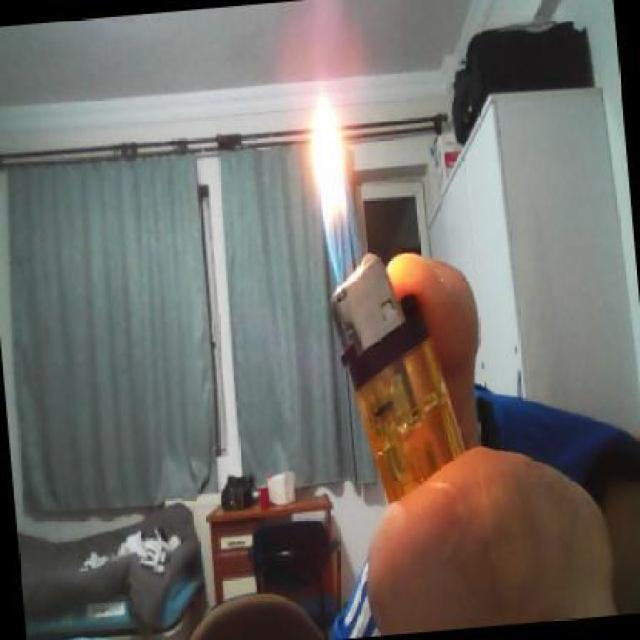Fire: (302, 80, 369, 268)
